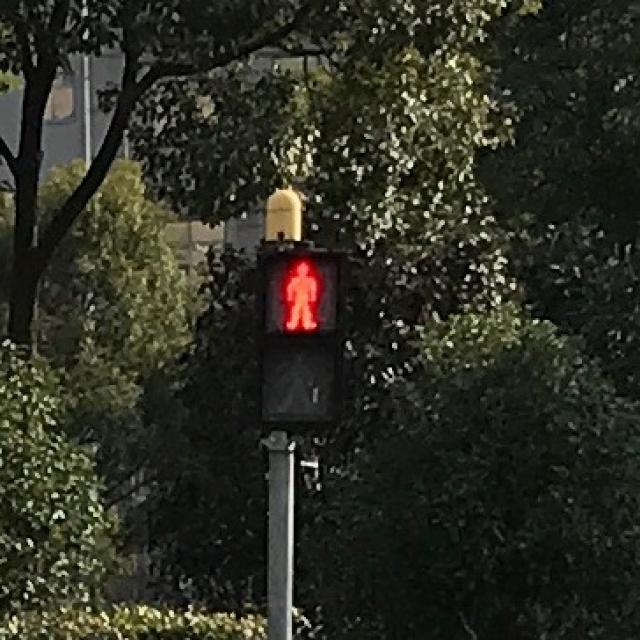red_light: (280, 250, 326, 328)
